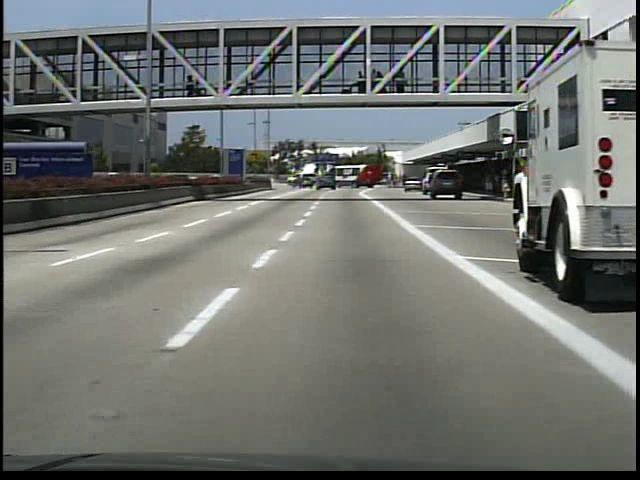person: (483, 172, 496, 199)
